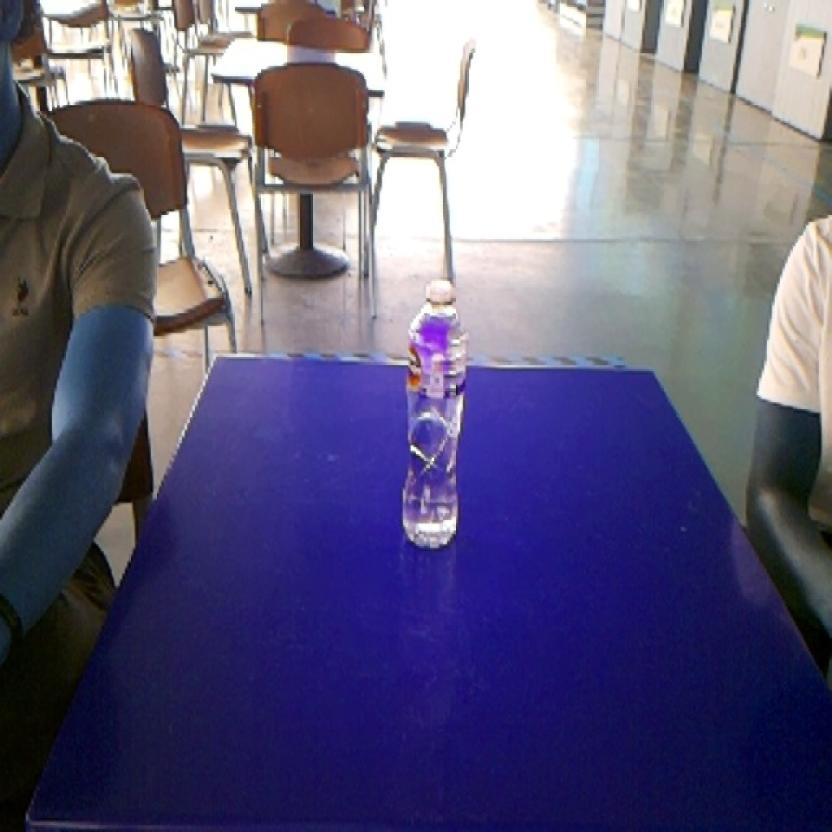no_cap: (393, 270, 478, 559)
